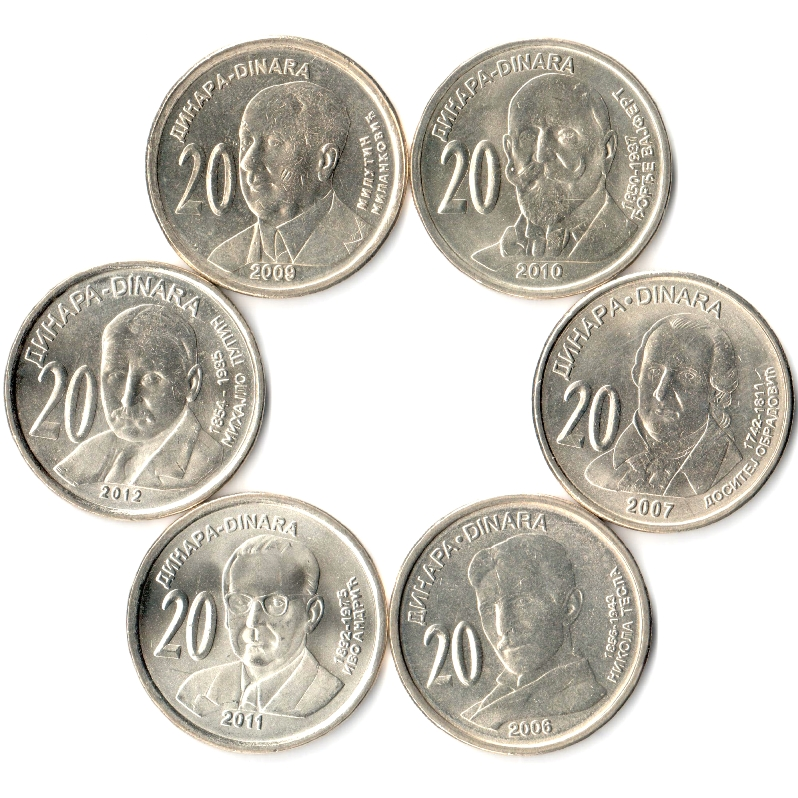coin: (384, 495, 657, 759), (1, 260, 271, 520), (527, 274, 798, 528), (410, 42, 673, 300), (143, 37, 407, 293), (125, 493, 381, 753)
